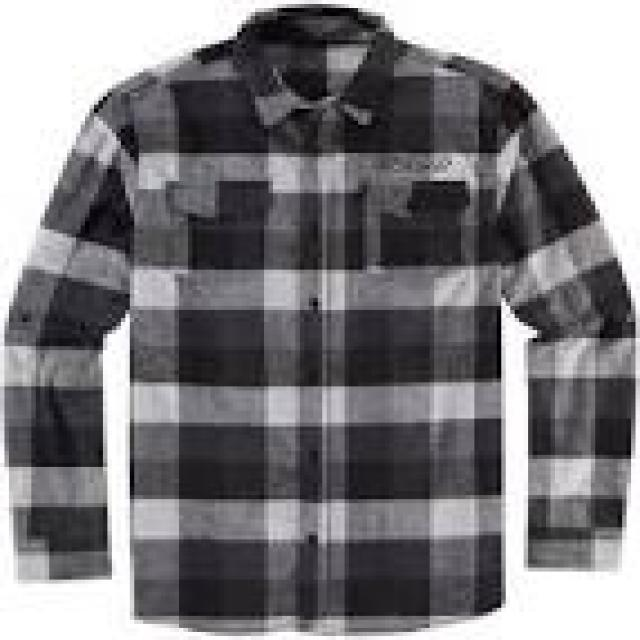plaid: (18, 20, 631, 640)
